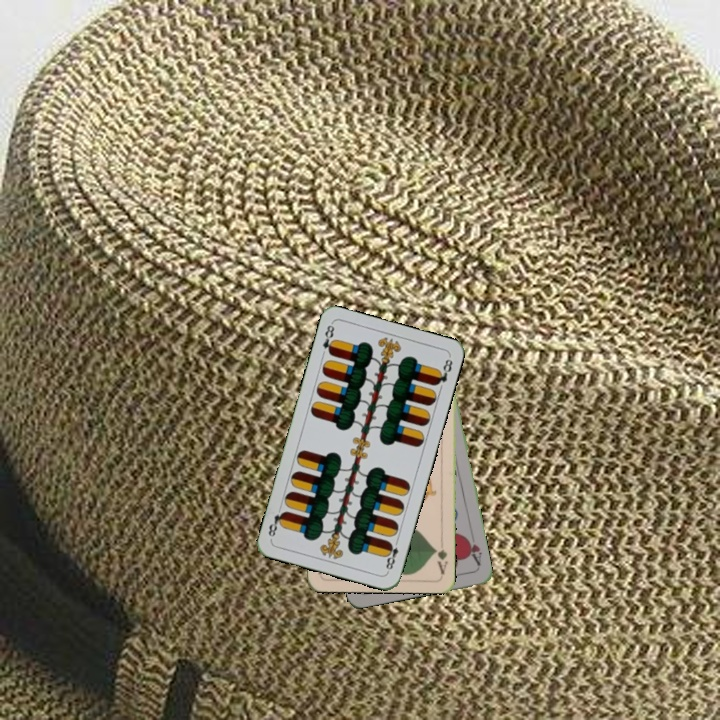E8: (381, 535, 401, 574), (318, 320, 338, 358)
GA: (431, 545, 451, 577)
HA: (461, 529, 485, 568)
